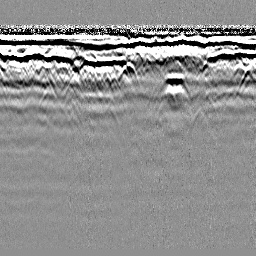cavity: (117, 59, 139, 82)
